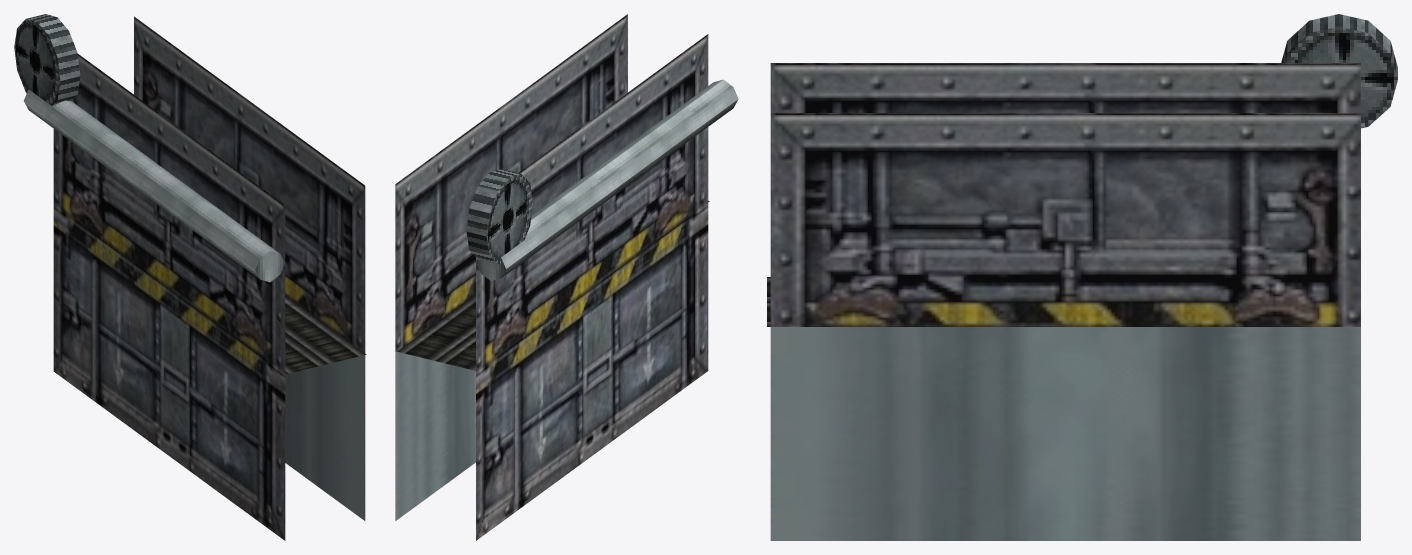
Rendered from hl1_bigdoor.glb.
3 views of the same model, side by side, from view 1: azimuth 30°, elevation 25°; view 2: azimuth 150°, elevation 25°; view 3: azimuth 270°, elevation 25° (orthographic). The views are drawn at different scales.
Visible parts, largest first — view 1: UPPER, LOWER, SLIDE, SPIN; view 2: UPPER, LOWER, SLIDE, SPIN; view 3: UPPER, LOWER, SPIN.
Part boxes in pixels (x1,y1,x2,y2): UPPER: (53, 16, 366, 373); LOWER: (53, 204, 365, 540); SLIDE: (24, 89, 284, 282); SPIN: (14, 14, 80, 105); UPPER: (395, 14, 709, 371); LOWER: (395, 203, 708, 540); SLIDE: (476, 79, 738, 281); SPIN: (466, 169, 532, 264); UPPER: (767, 63, 1360, 326); LOWER: (770, 327, 1360, 540); SPIN: (1281, 14, 1397, 128).
Size of the model in its own units: 1.1 by 3.45 by 4.27.
Materials: 6 (6 with a texture image).
